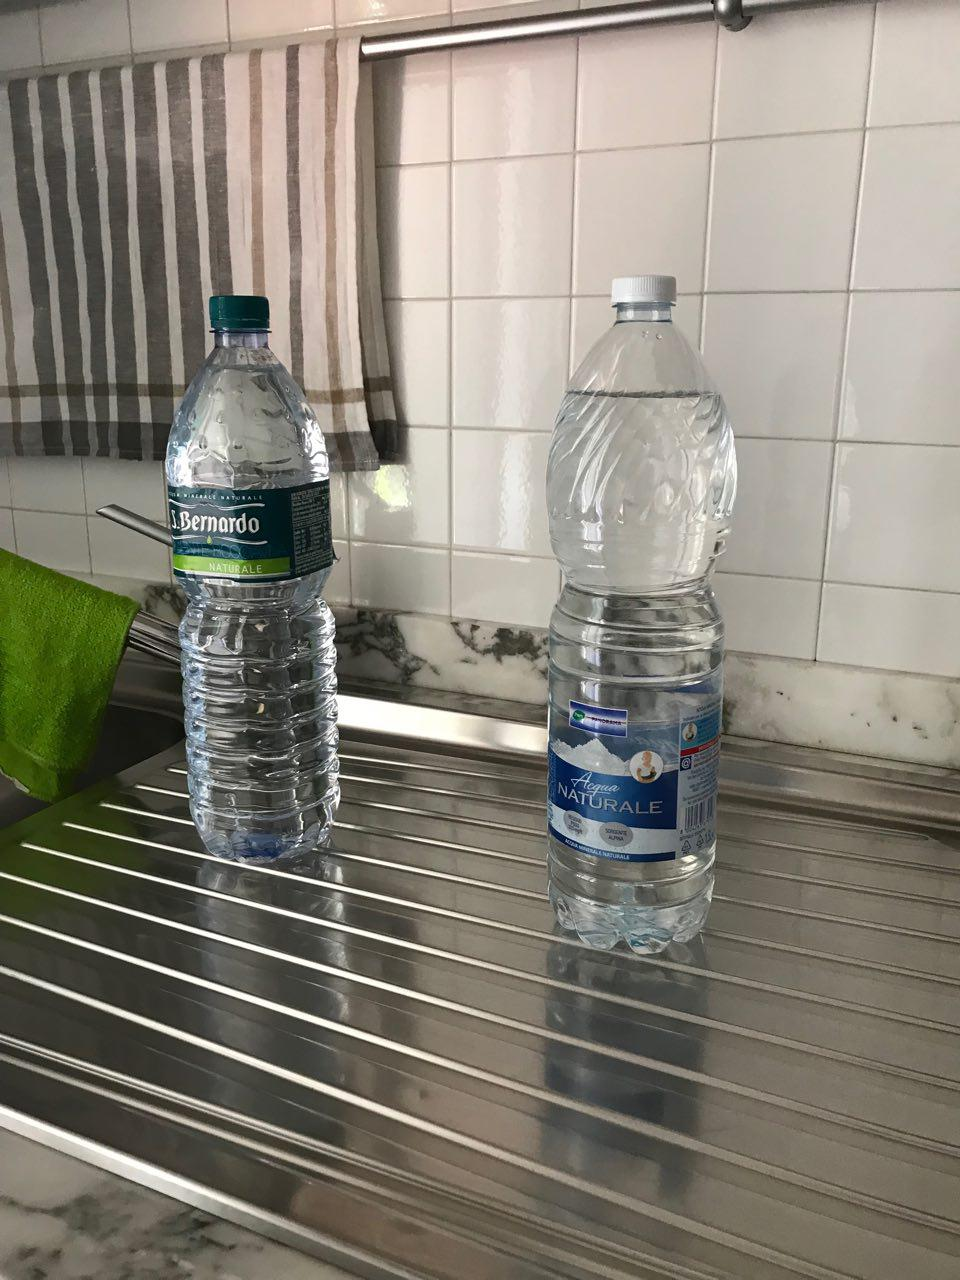san_bernardo: (163, 293, 343, 865)
